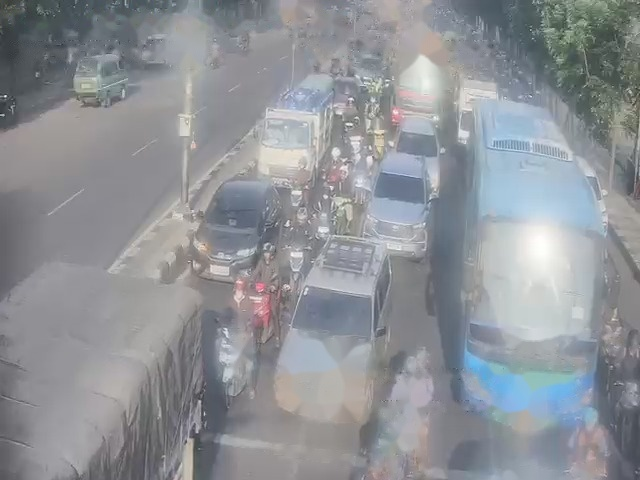Bis: (466, 109, 590, 416)
Mobil: (285, 235, 393, 411), (195, 172, 278, 274), (366, 149, 432, 254)
Motor: (217, 330, 238, 388), (335, 194, 352, 234), (604, 329, 616, 373), (351, 168, 366, 195), (314, 213, 328, 241), (291, 182, 298, 210), (375, 132, 382, 150), (351, 138, 357, 154), (341, 160, 344, 182)
Truk: (1, 267, 212, 480), (255, 76, 330, 190)
